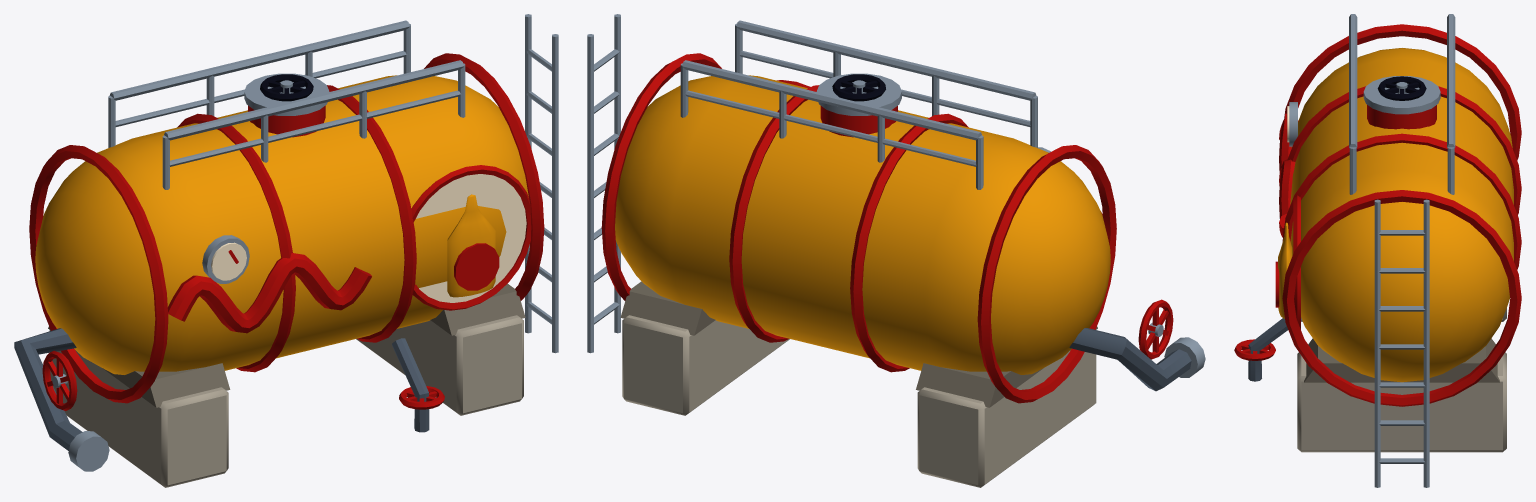
Rendered from FuelTank.fbx.
The picture shows the model from 3 angles, left to right: view 1: azimuth 30°, elevation 25°; view 2: azimuth 150°, elevation 25°; view 3: azimuth 270°, elevation 25°; orthographic projection. The views are drawn at different scales.
Parts seen in each view (by area): view 1: FuelTank; view 2: FuelTank; view 3: FuelTank.
Part boxes in pixels (<box>): FuelTank: <box>14,14,558,487</box>; FuelTank: <box>587,14,1205,487</box>; FuelTank: <box>1234,14,1521,487</box>.
Bounding box in the file's own units: 8 × 4.65 × 4.11.
